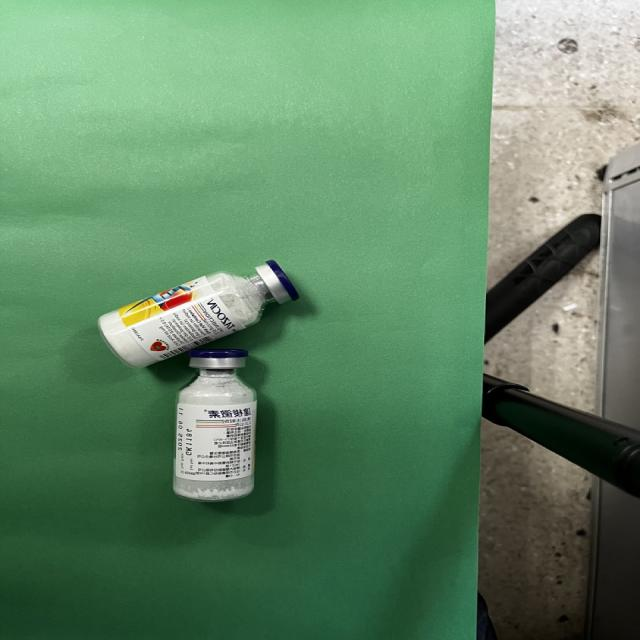Vials: (99, 260, 299, 366), (173, 349, 257, 501)
